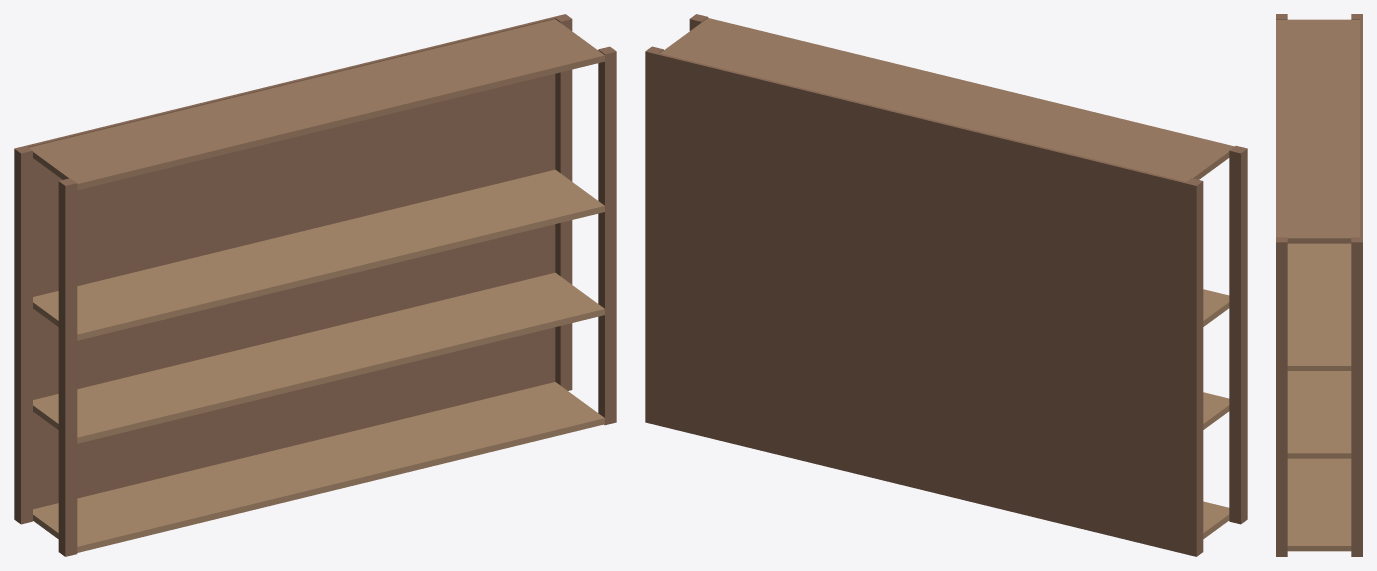
File: wooden-shelf.glb
3 renders of one model, left to right at view 1: azimuth 30°, elevation 25°; view 2: azimuth 150°, elevation 25°; view 3: azimuth 270°, elevation 25°, orthographic. The views are drawn at different scales.
Visible parts, largest first — view 1: post-0, shelf-0, shelf-3; view 2: post-0, shelf-3, shelf-0; view 3: shelf-0, shelf-3, post-0.
Part boxes in pixels (left/top/right/bottom): post-0: left=14, top=14, right=616, bottom=556; shelf-0: left=33, top=169, right=604, bottom=552; shelf-3: left=29, top=19, right=604, bottom=190; post-0: left=645, top=14, right=1247, bottom=556; shelf-3: left=660, top=18, right=1234, bottom=181; shelf-0: left=1203, top=289, right=1229, bottom=538; shelf-0: left=1287, top=243, right=1351, bottom=551; shelf-3: left=1276, top=19, right=1359, bottom=243; post-0: left=1276, top=14, right=1362, bottom=556.
Size of the model in its own units: 2.8 by 1.8 by 0.4505.
